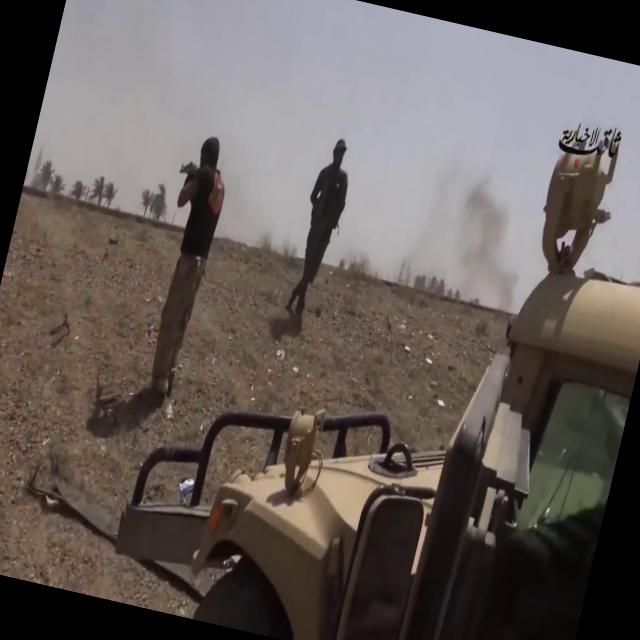long weapon: (170, 152, 205, 191)
